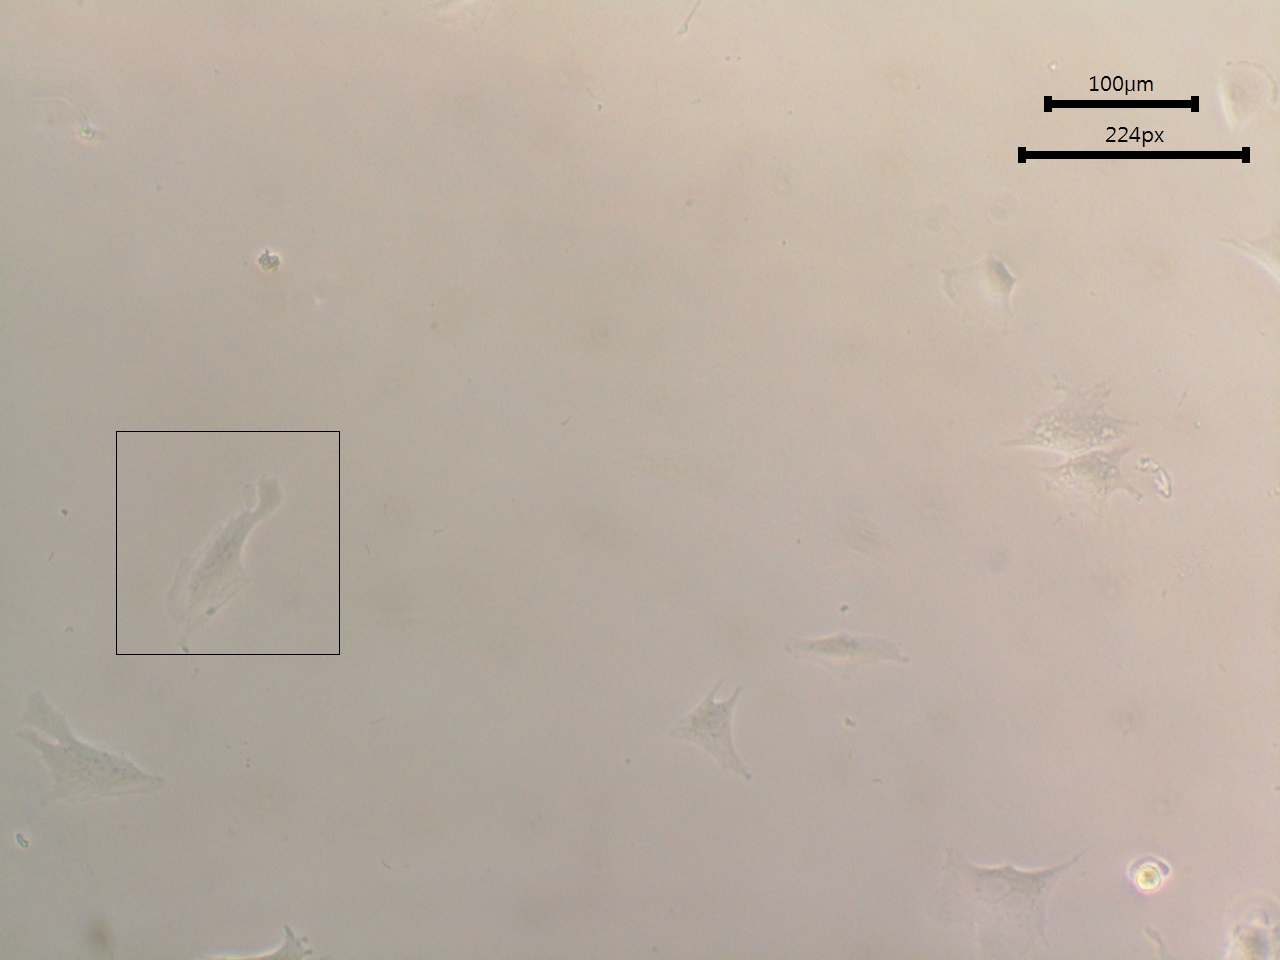medium-polygonal: (155, 449, 307, 642), (8, 678, 181, 816)
medium-spread: (919, 821, 1082, 960)
small-polygonal: (665, 667, 774, 787), (1002, 364, 1139, 457), (768, 626, 916, 687), (1037, 451, 1144, 515)
